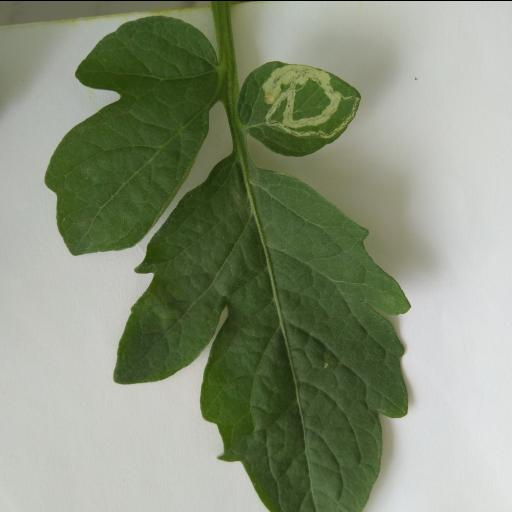Healthy: (112, 151, 414, 512), (43, 13, 223, 253)
Leaf Miner: (240, 59, 362, 159)
